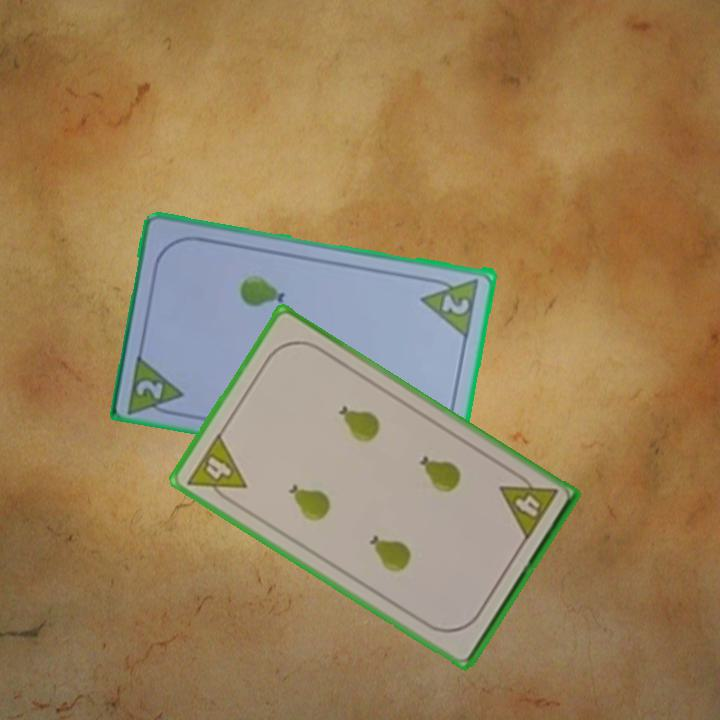2p: (124, 349, 189, 419), (418, 273, 482, 338)
4p: (182, 429, 250, 509), (496, 466, 560, 544)
